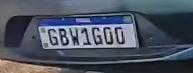Placa_mercosul_carro: (35, 13, 139, 50)
